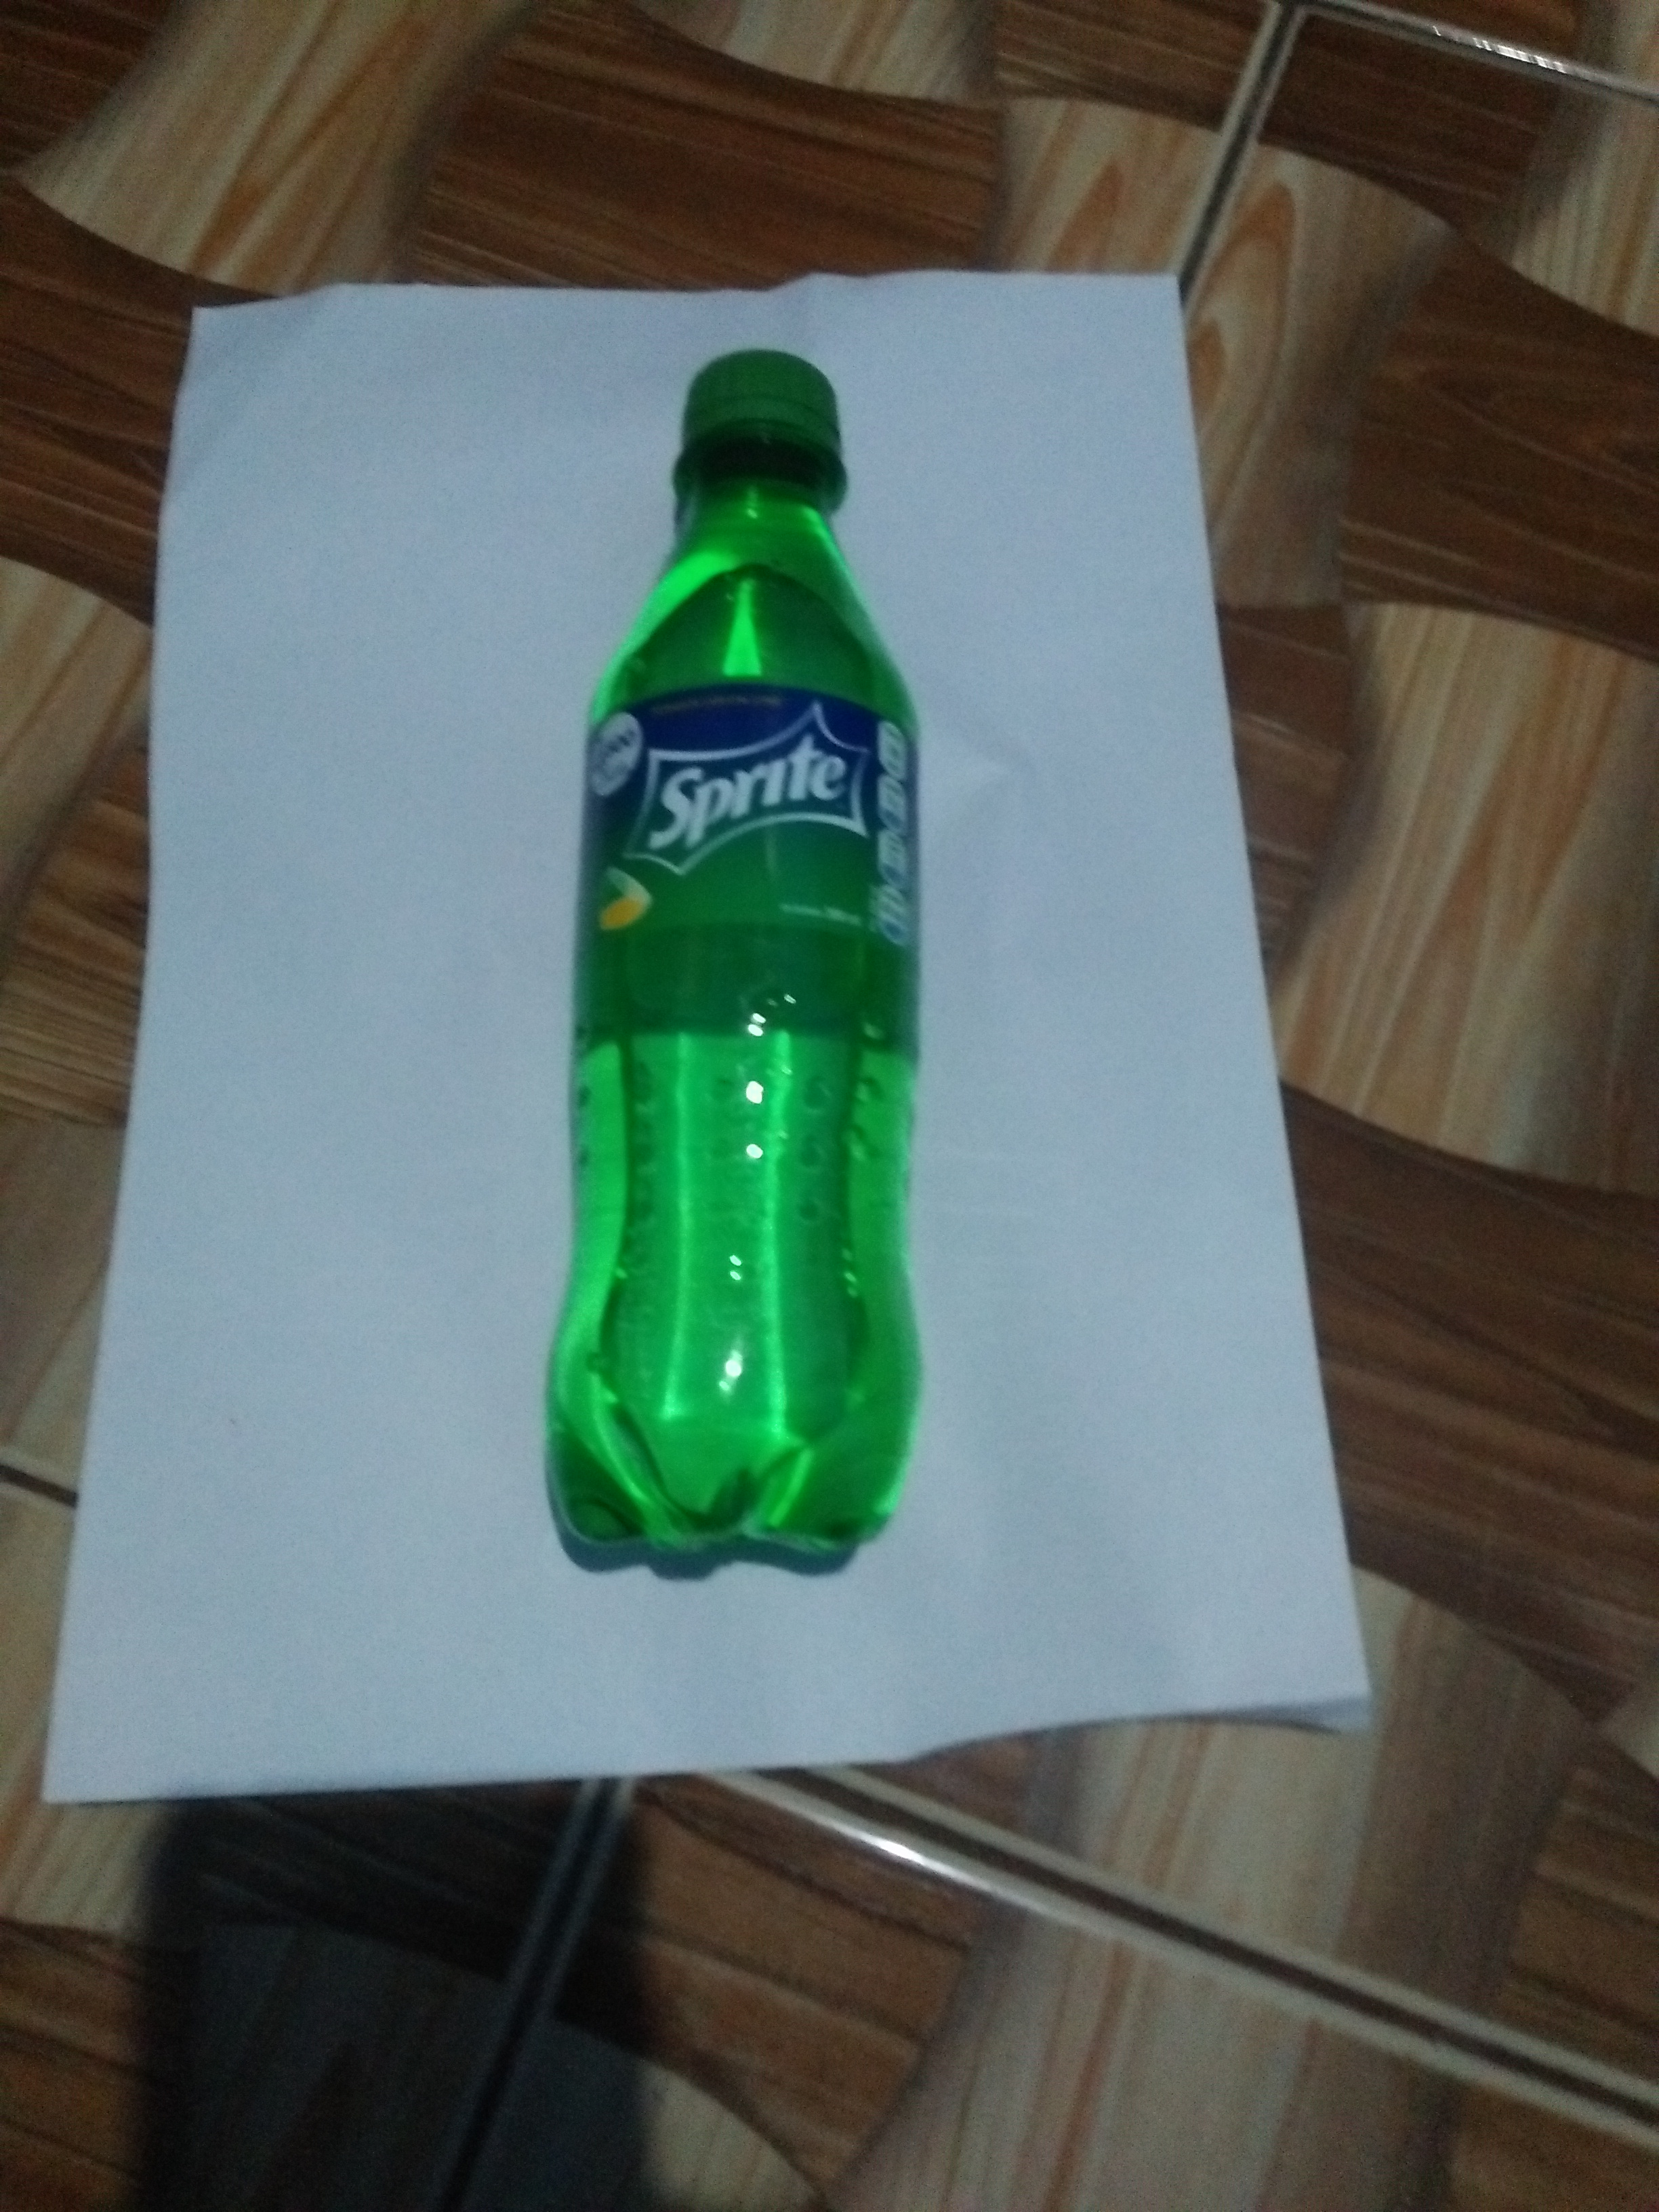Sprite: (552, 324, 950, 1576)
